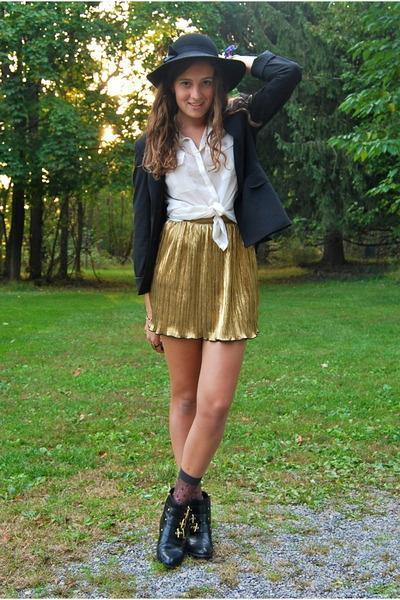hat: (147, 36, 245, 92)
jacket: (127, 47, 299, 294)
shirt: (166, 134, 236, 250)
shoe: (150, 469, 220, 571)
skirt: (144, 210, 263, 355)
